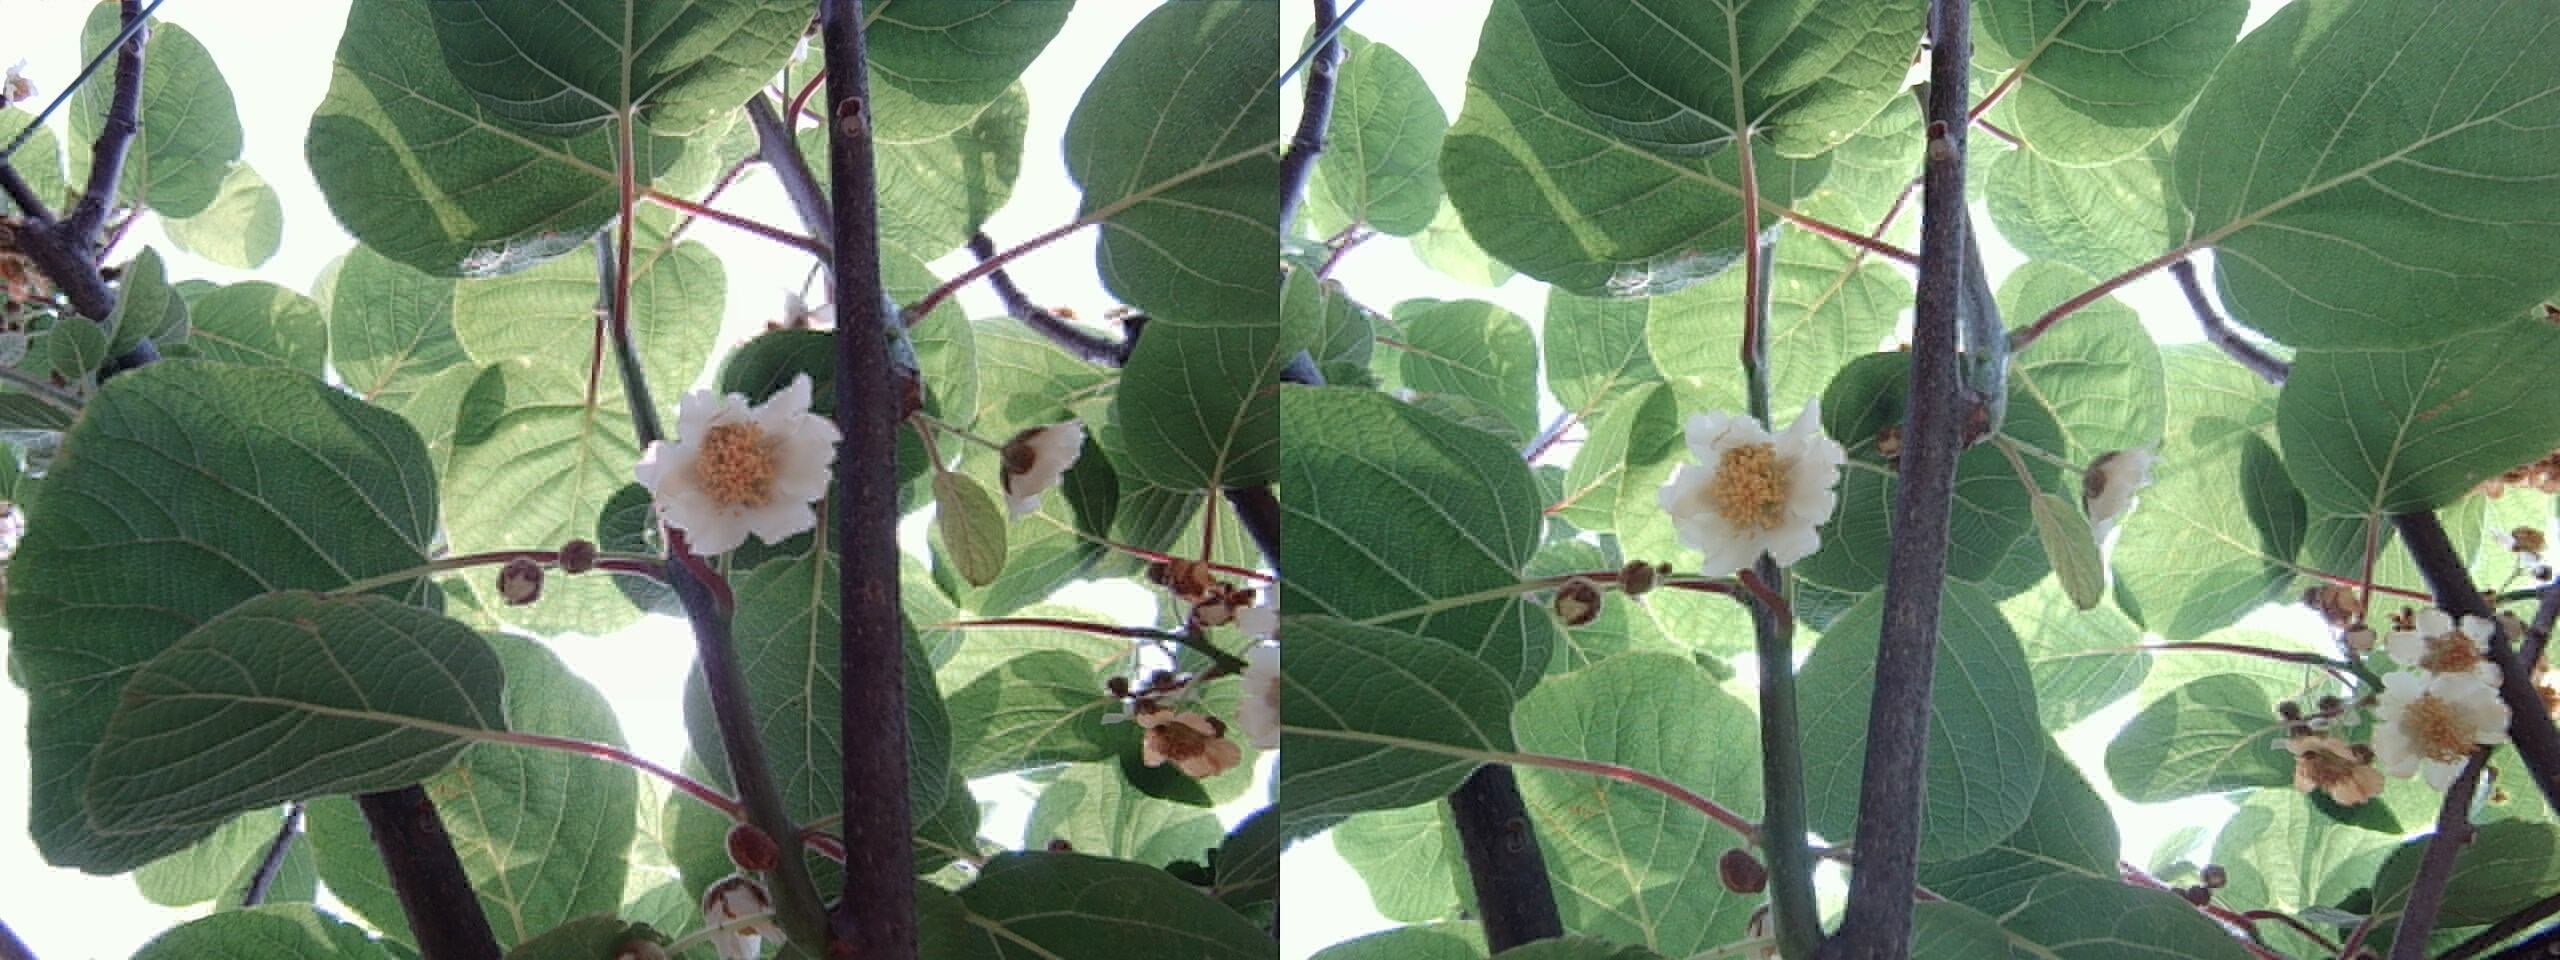flower: (630, 376, 834, 560), (1656, 400, 1842, 573), (2336, 633, 2514, 784)
